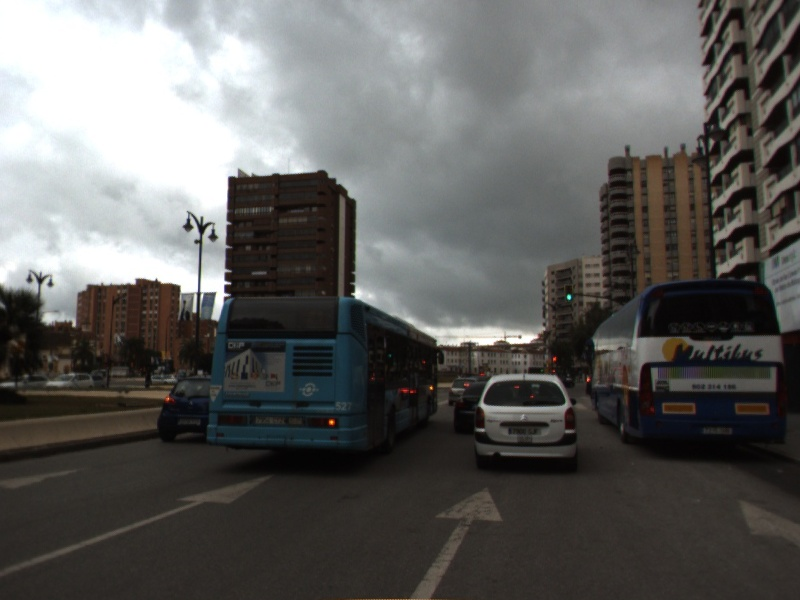STRAIGHT: (1, 468, 282, 579), (404, 482, 509, 600)
